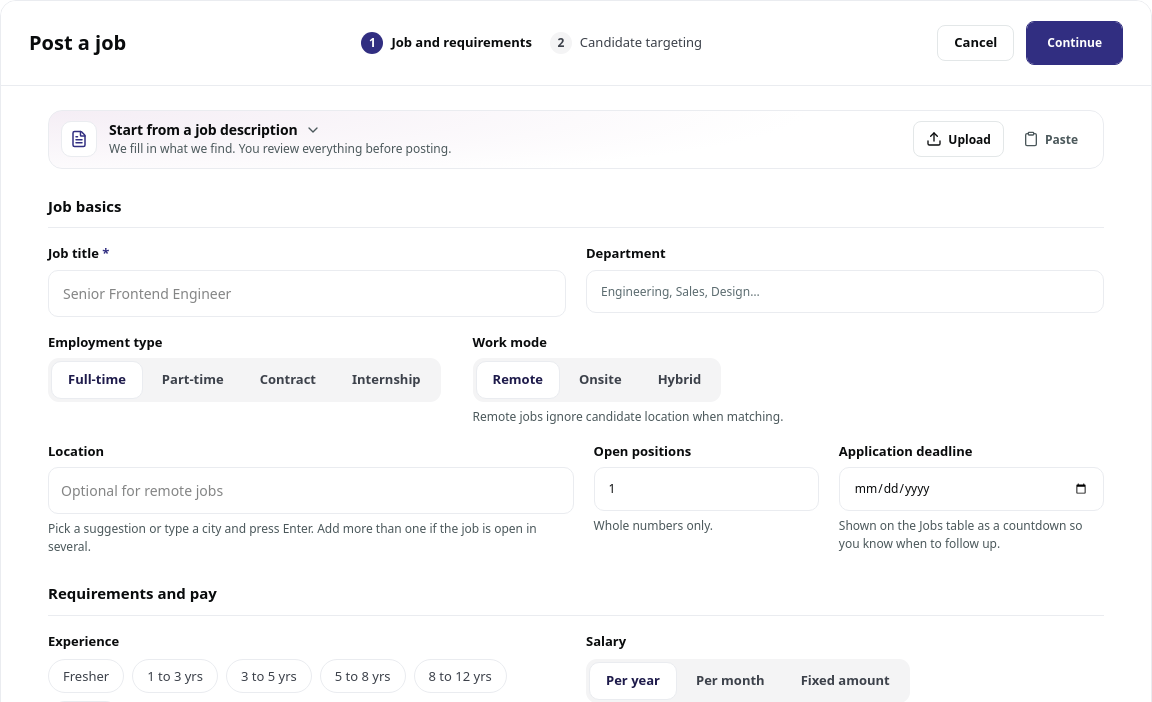
Test: RequirementForm (create) › only shows duration and hours for non full-time roles
Expected: the field labelled "duration (weeks)" is not shown
Click the radio button labelled "Contract".
click(288, 380)  # box [243,362,333,399]
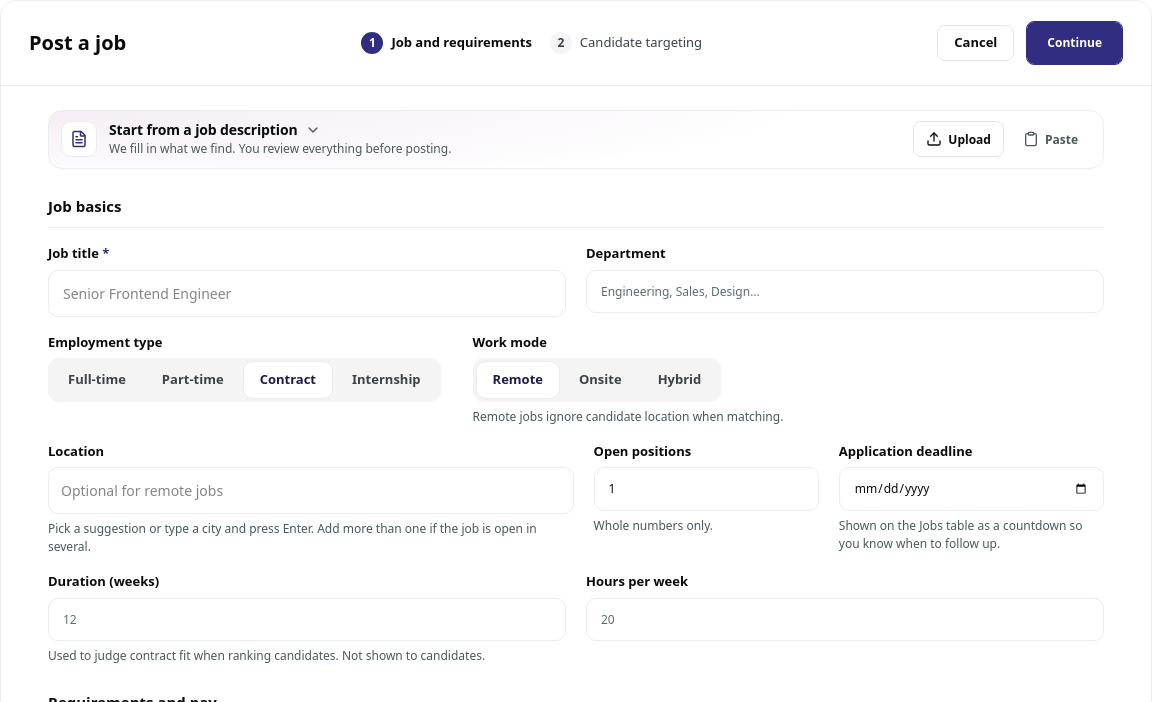
Now the field labelled "Duration (weeks)" is shown, box [48,598,566,641]
Now the field labelled "Hours per week" is shown, box [586,598,1104,641]
